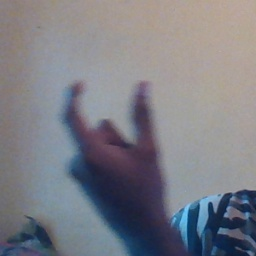U: (65, 72, 167, 215)
